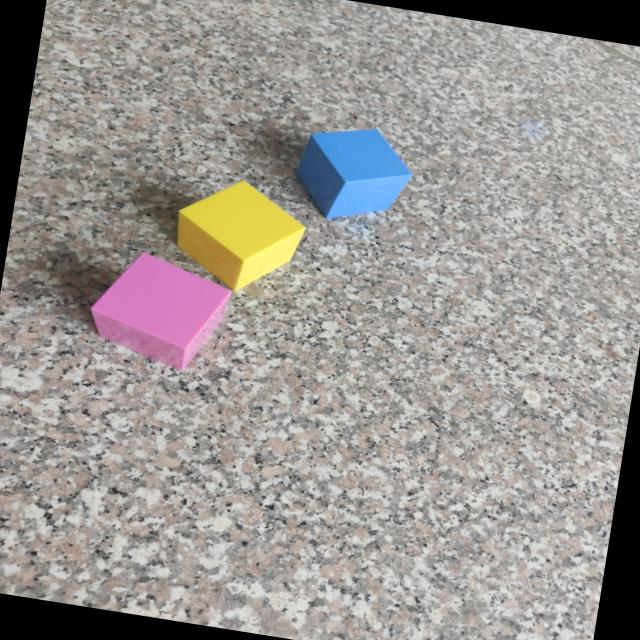blue: (296, 129, 411, 222)
pink: (90, 255, 233, 372)
yellow: (175, 183, 305, 294)
